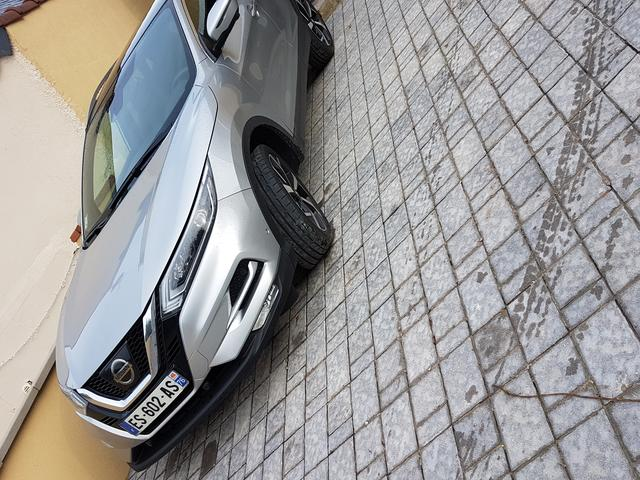Quashquai: (110, 360, 204, 448)
